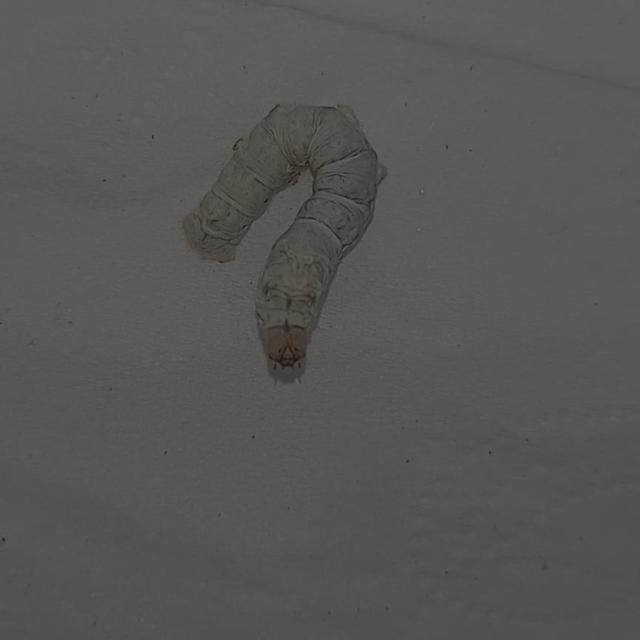Healthy: (157, 70, 420, 408)
